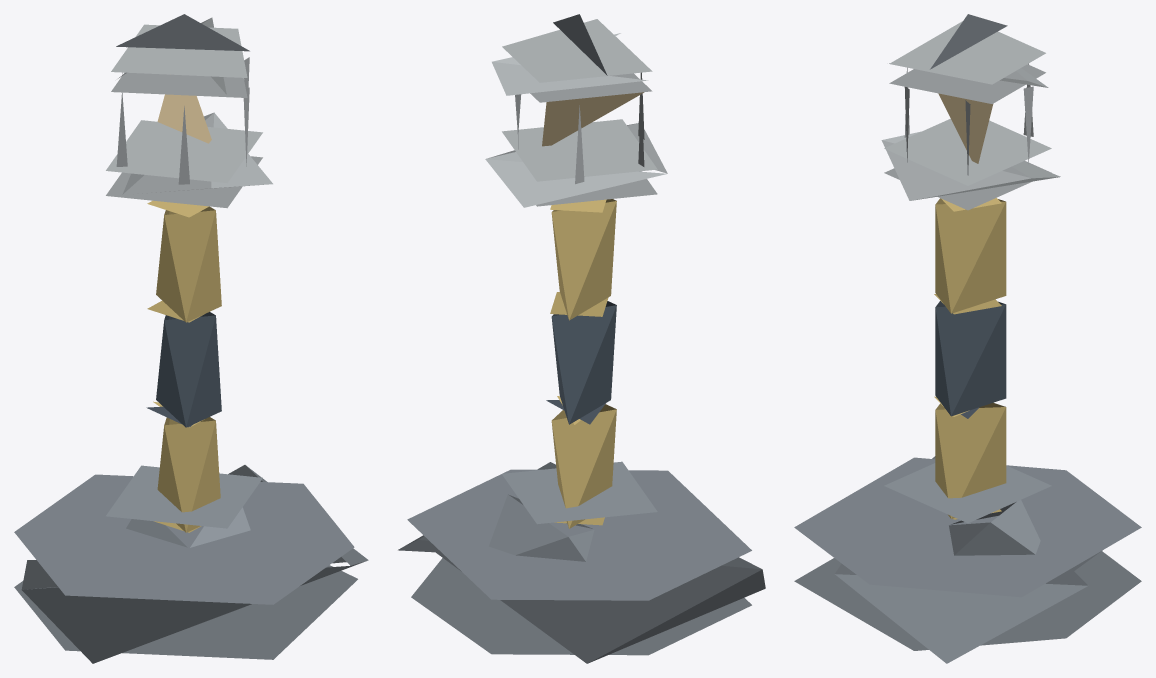
3 views of the same model, side by side, from view 1: azimuth 30°, elevation 25°; view 2: azimuth 150°, elevation 25°; view 3: azimuth 270°, elevation 25° (orthographic). The views are drawn at different scales.
Parts seen in each view (by area): view 1: sea_beacon.001; view 2: sea_beacon.001; view 3: sea_beacon.001.
Boxes of the visible parts, x1,y1,x2,y2 form: sea_beacon.001: (14,14,368,663); sea_beacon.001: (398,14,765,663); sea_beacon.001: (794,14,1141,663).
Bounding box in the file's own units: 1.45 × 2.32 × 1.29.
